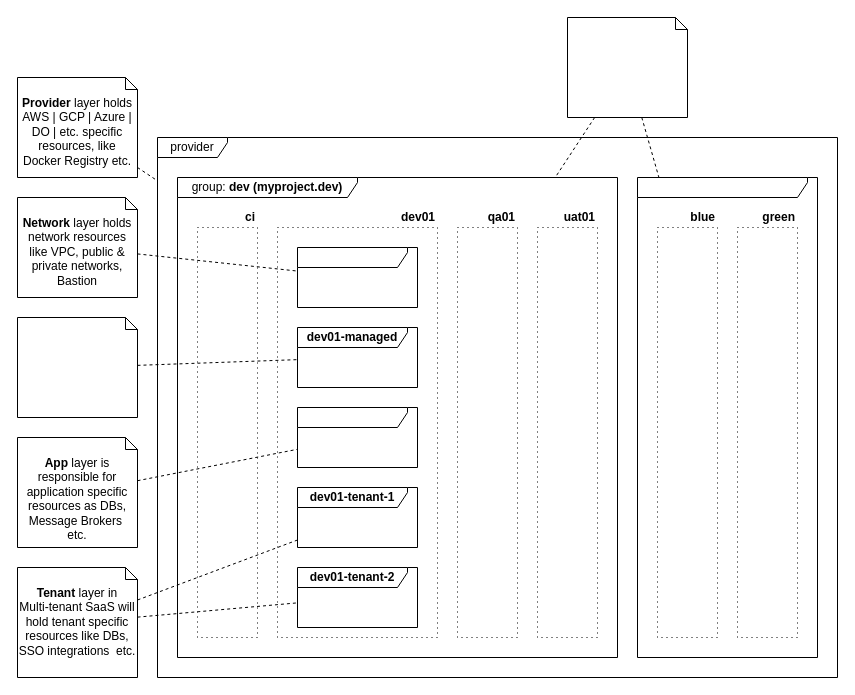
This 855x695 diagram has some shape labels left out. Each missing label, with the box of its shape:
dev01-app: (296, 406, 418, 468)
dev01-network: (296, 246, 418, 308)
Group layer contains group-specific resources: domain name, SES instance, etc.: (566, 16, 688, 118)
group: prod (myproject.io): (636, 176, 818, 658)
Managed layer holds "active" resource like VMs, K8s etc.: (16, 316, 138, 418)
